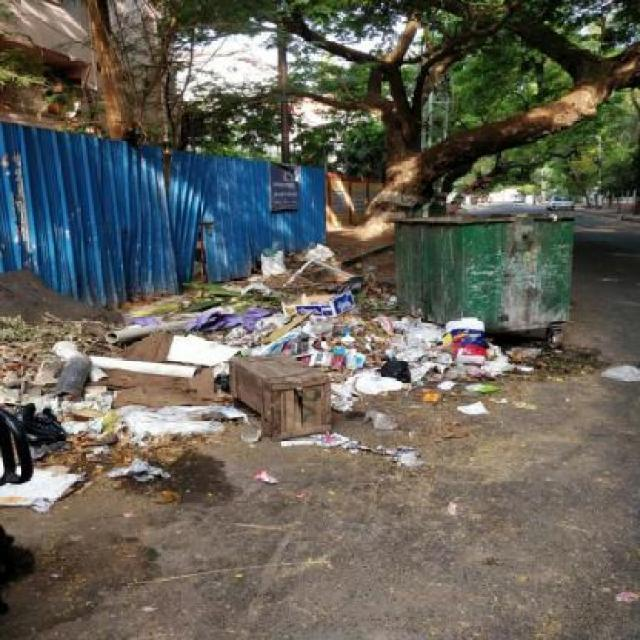garbage: (234, 300, 494, 391), (6, 339, 174, 465)
